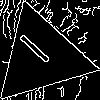I: (16, 31, 60, 73)
